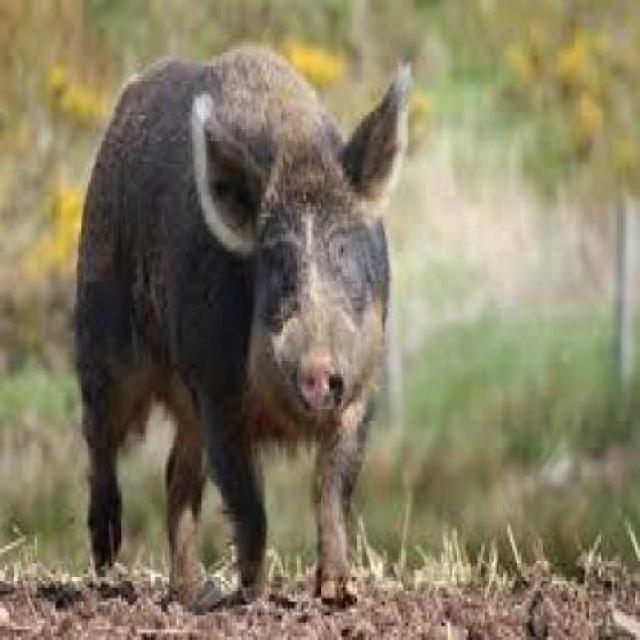wildboar: (73, 30, 413, 612)
